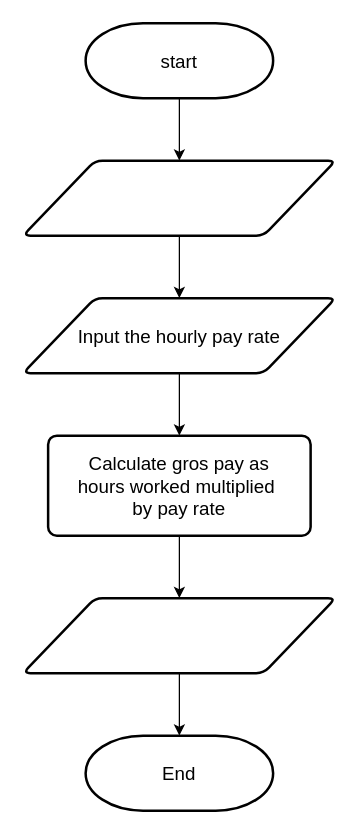
Some shapes in this 358 by 833 pixel diagram are drawn without their labels. Each missing label, with the centre of its shape:
"Display the gross pay" belongs at pixel 178 635.
"Input the hours worked" belongs at pixel 178 197.
